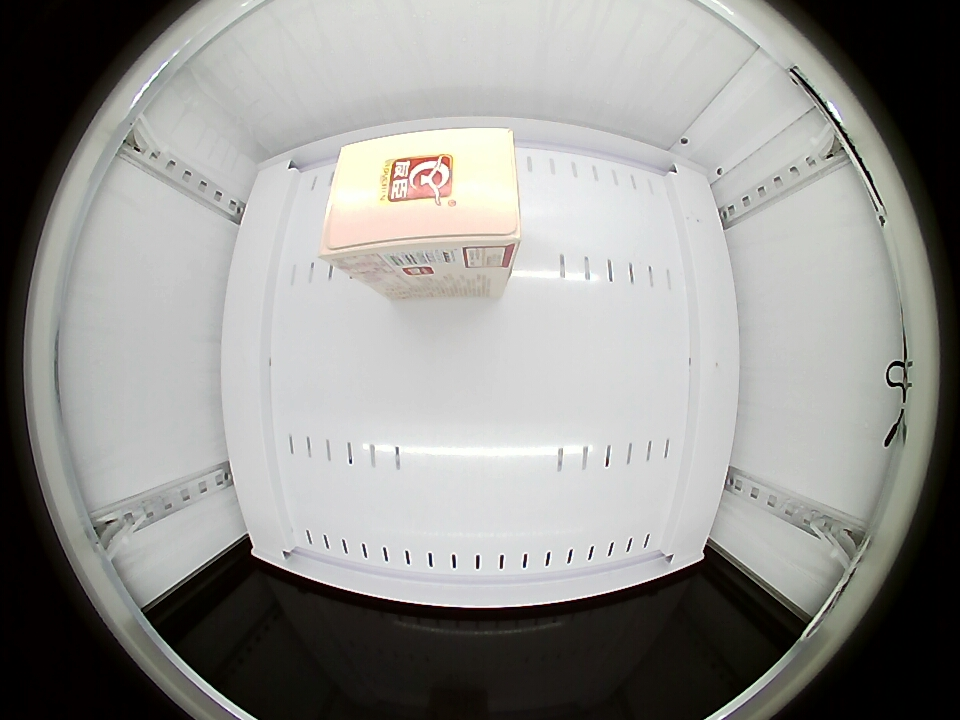rousongbing: (319, 127, 522, 274)
